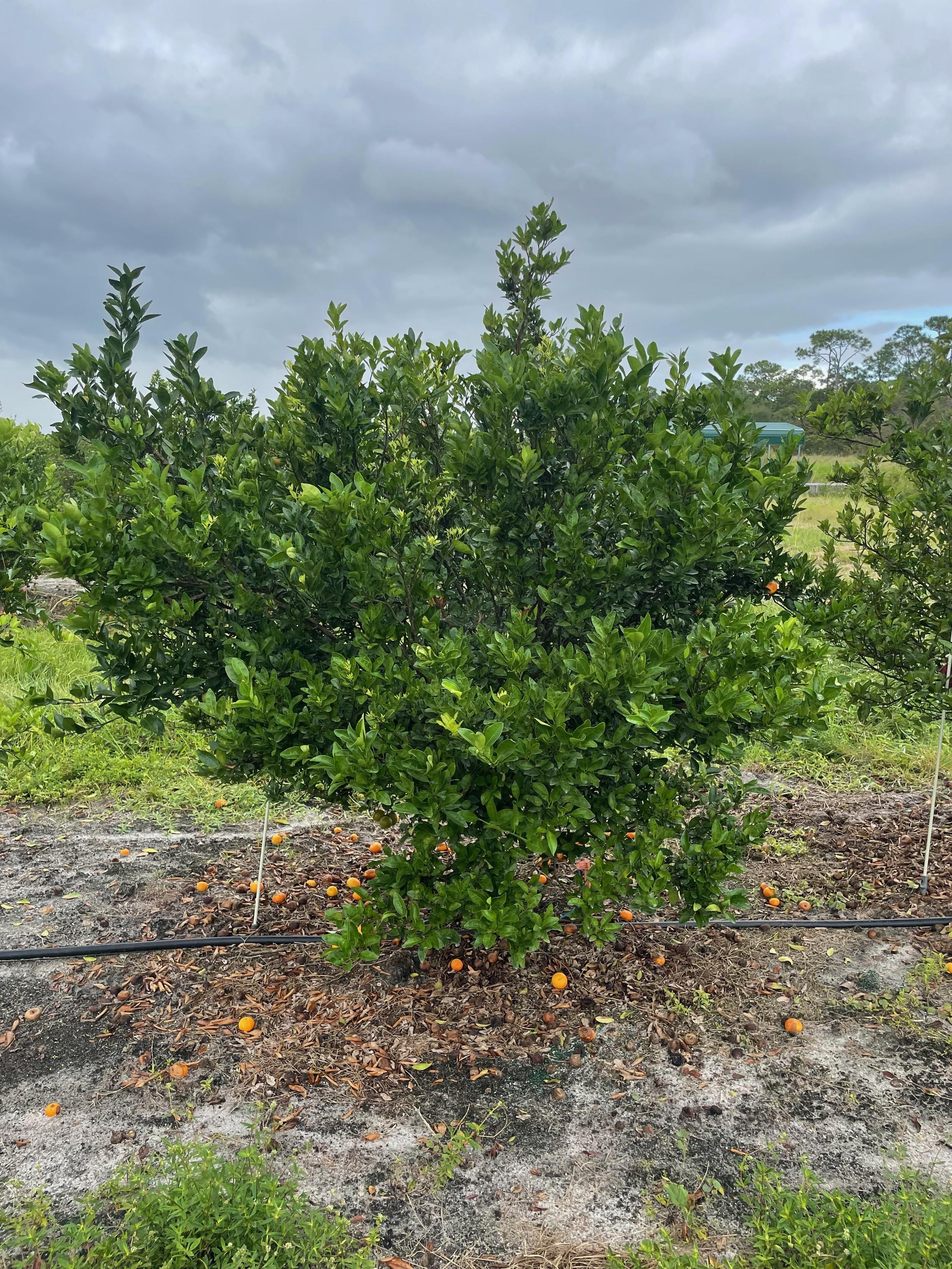fruit_on_ground: (426, 590, 448, 611), (270, 451, 287, 469), (762, 579, 779, 596), (384, 810, 399, 827), (378, 815, 394, 830), (371, 808, 386, 823)
fruit_on_tree: (166, 1059, 191, 1080), (783, 1015, 805, 1035), (236, 1014, 256, 1033), (550, 970, 569, 989), (576, 1024, 596, 1042), (44, 1100, 62, 1118), (681, 1030, 699, 1046), (23, 1005, 41, 1021), (561, 921, 579, 937), (447, 956, 465, 972), (541, 1010, 557, 1025), (618, 907, 635, 921), (651, 953, 667, 967), (248, 879, 264, 893), (761, 885, 777, 899), (116, 988, 131, 1002), (797, 898, 812, 912), (362, 866, 378, 879), (345, 876, 361, 889), (271, 891, 287, 904), (435, 840, 450, 853), (767, 895, 782, 908), (367, 841, 382, 854), (194, 879, 209, 892), (418, 958, 431, 972), (325, 884, 339, 897), (270, 832, 283, 845), (350, 889, 364, 901), (285, 899, 298, 911), (347, 831, 360, 843), (214, 797, 227, 809), (758, 880, 771, 892), (943, 959, 952, 975), (624, 829, 637, 840), (305, 877, 318, 888), (118, 846, 131, 857), (556, 851, 568, 862), (535, 873, 547, 884), (332, 824, 343, 834)
